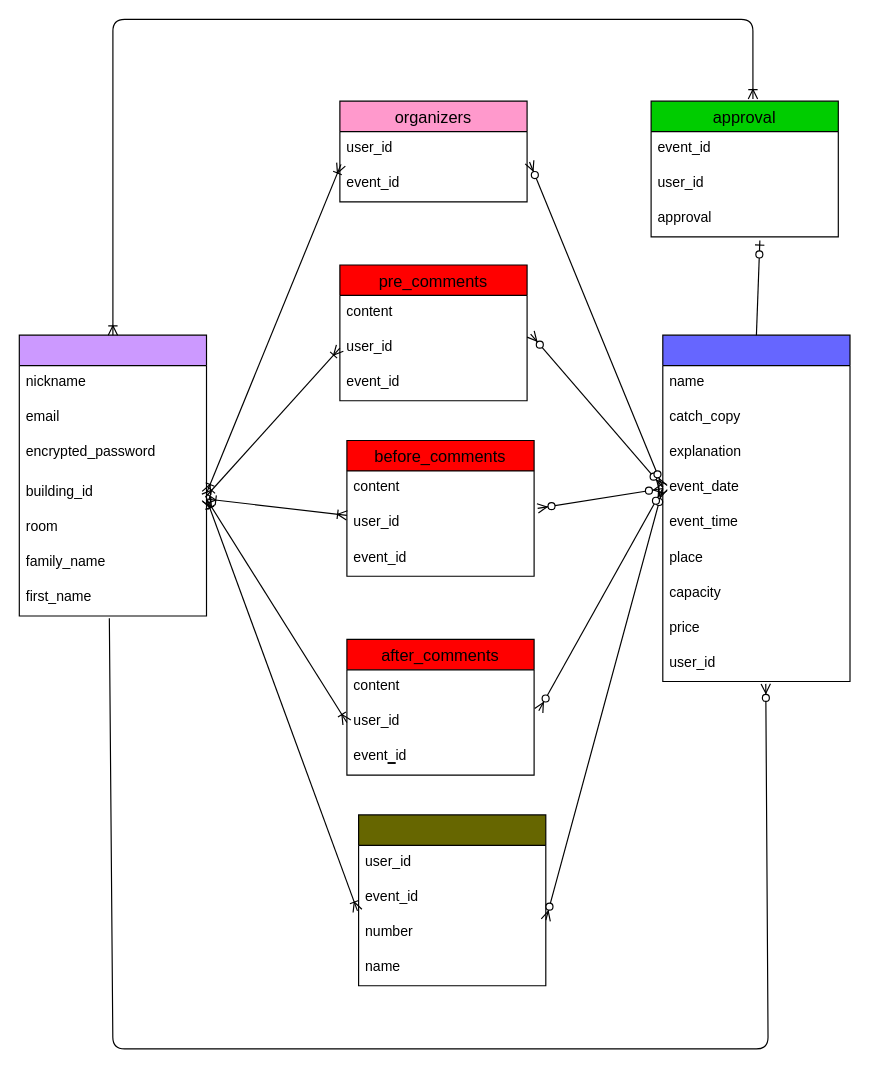
This 869x1068 diagram has some shape labels left out. The box of each missing label's shape, as (x1, y1, x2, y2) in pixels:
events: (662, 334, 850, 682)
participation: (357, 814, 546, 986)
users: (18, 334, 207, 616)
